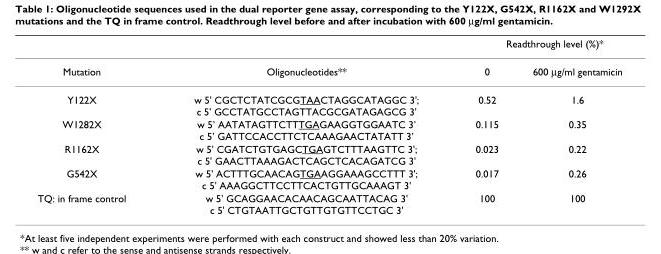table: (36, 37, 621, 215)
table column: (159, 37, 446, 215), (36, 37, 159, 215), (514, 37, 621, 215), (446, 37, 514, 215)
table column header: (36, 37, 621, 85)
table row: (36, 85, 621, 117), (36, 56, 621, 85), (36, 141, 621, 166), (36, 166, 621, 191), (36, 117, 621, 141), (36, 191, 621, 215), (36, 37, 621, 56)
table spanning cell: (159, 37, 446, 85), (36, 37, 159, 85), (446, 37, 621, 56)
